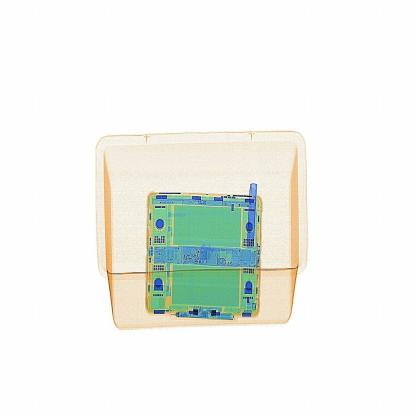pliers: (240, 173, 260, 260)
